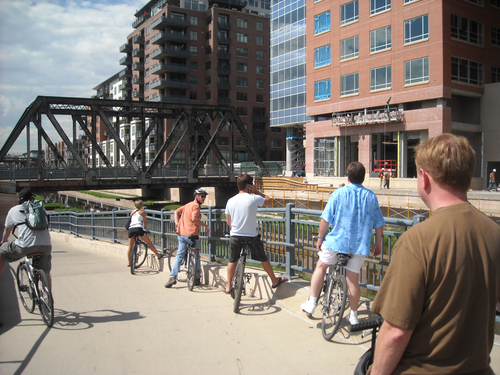bikerider: (303, 156, 382, 344), (6, 178, 62, 320), (120, 194, 162, 269)
